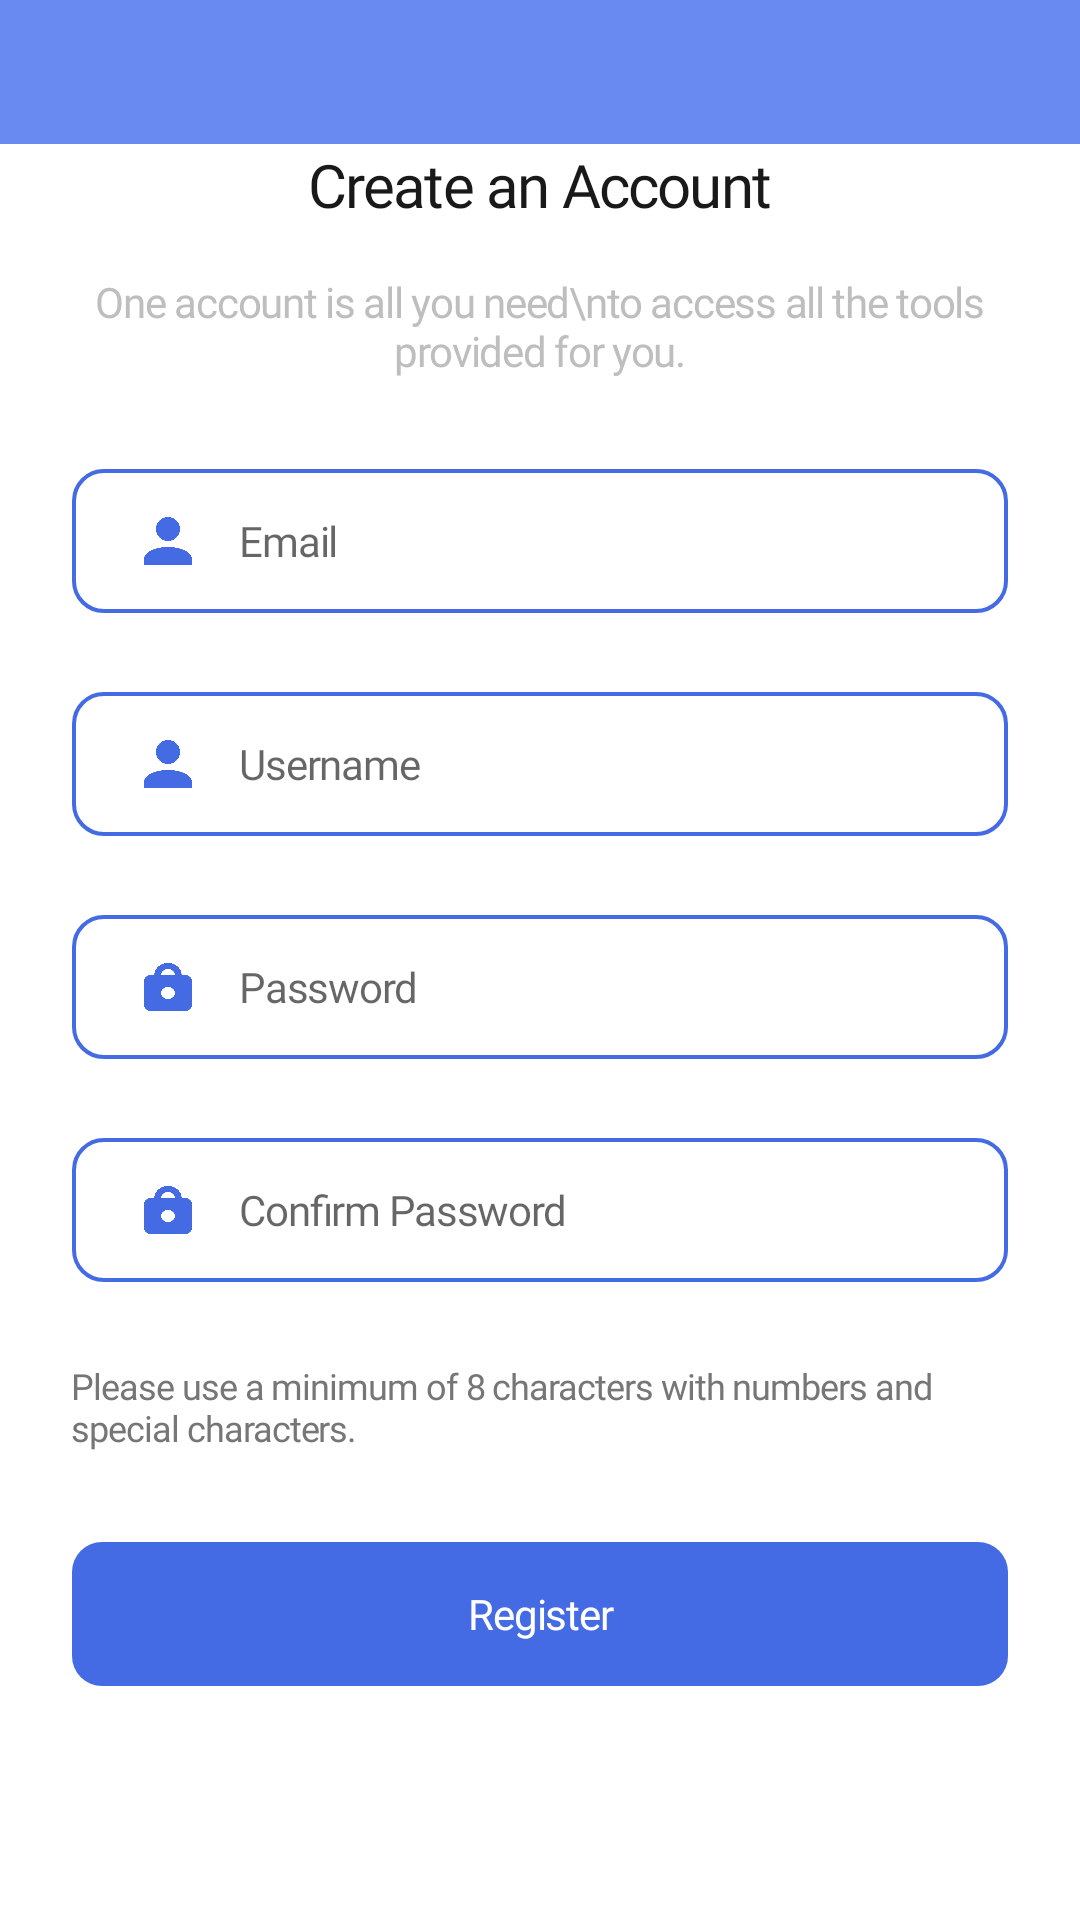

Screen size 1080w x 1920h. Icon name, then its center in pixels as point (x, y):
person: point (168, 541), point (168, 764)
